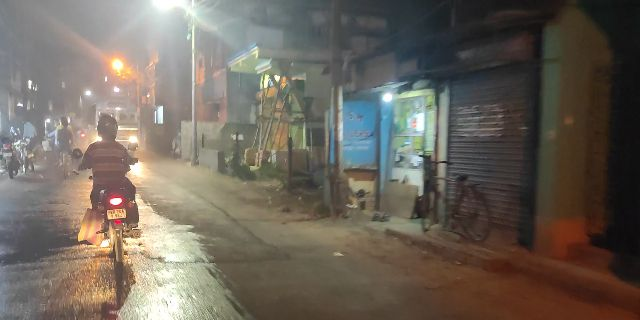Motorbike: (74, 110, 148, 266)
